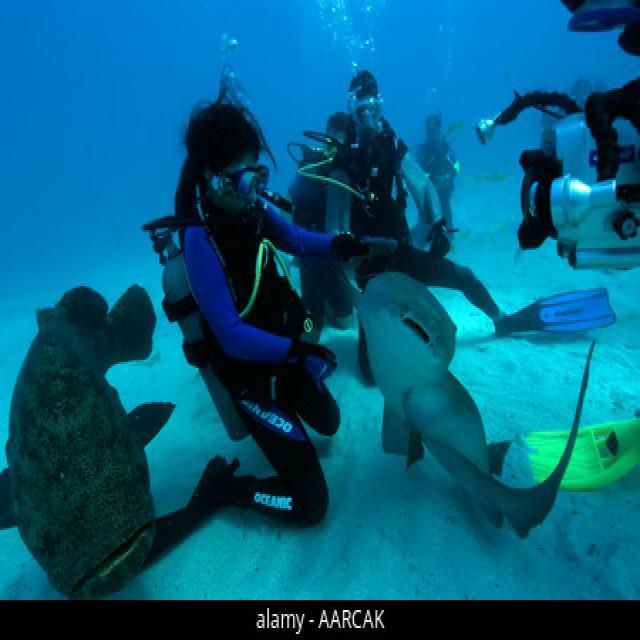Shark: (346, 234, 604, 556)
